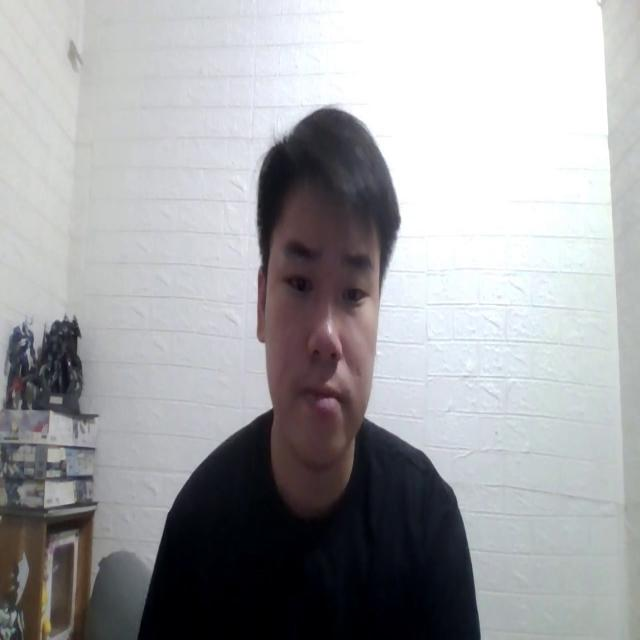student: (140, 106, 480, 640)
